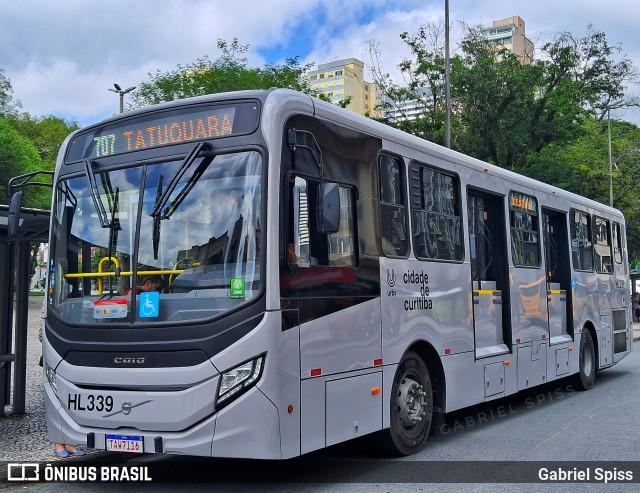TATUQUARA: (116, 108, 237, 156)
